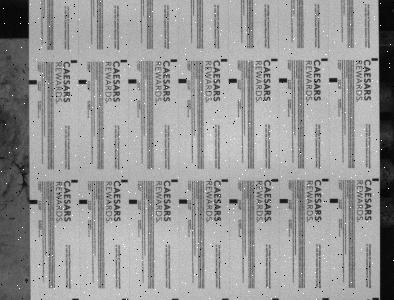qblock: (78, 79, 87, 84), (228, 78, 237, 83), (229, 198, 238, 203), (279, 198, 288, 203), (329, 198, 338, 203), (79, 199, 87, 204), (29, 80, 37, 85), (278, 78, 287, 82), (178, 79, 186, 83), (128, 79, 136, 83), (329, 78, 337, 82), (129, 199, 137, 203), (179, 199, 187, 203), (29, 200, 37, 204)
smallqblock: (221, 58, 228, 62), (272, 178, 279, 182), (71, 179, 78, 183), (171, 58, 177, 62), (121, 179, 128, 182), (322, 297, 329, 300), (372, 297, 379, 300), (120, 59, 127, 62), (271, 58, 278, 61), (321, 58, 328, 61), (371, 58, 378, 61), (171, 179, 178, 182), (221, 179, 228, 182), (372, 178, 379, 181), (71, 60, 77, 63), (322, 178, 328, 181), (271, 298, 279, 300), (72, 298, 79, 300), (222, 298, 229, 300), (172, 298, 179, 300), (121, 298, 128, 300)
